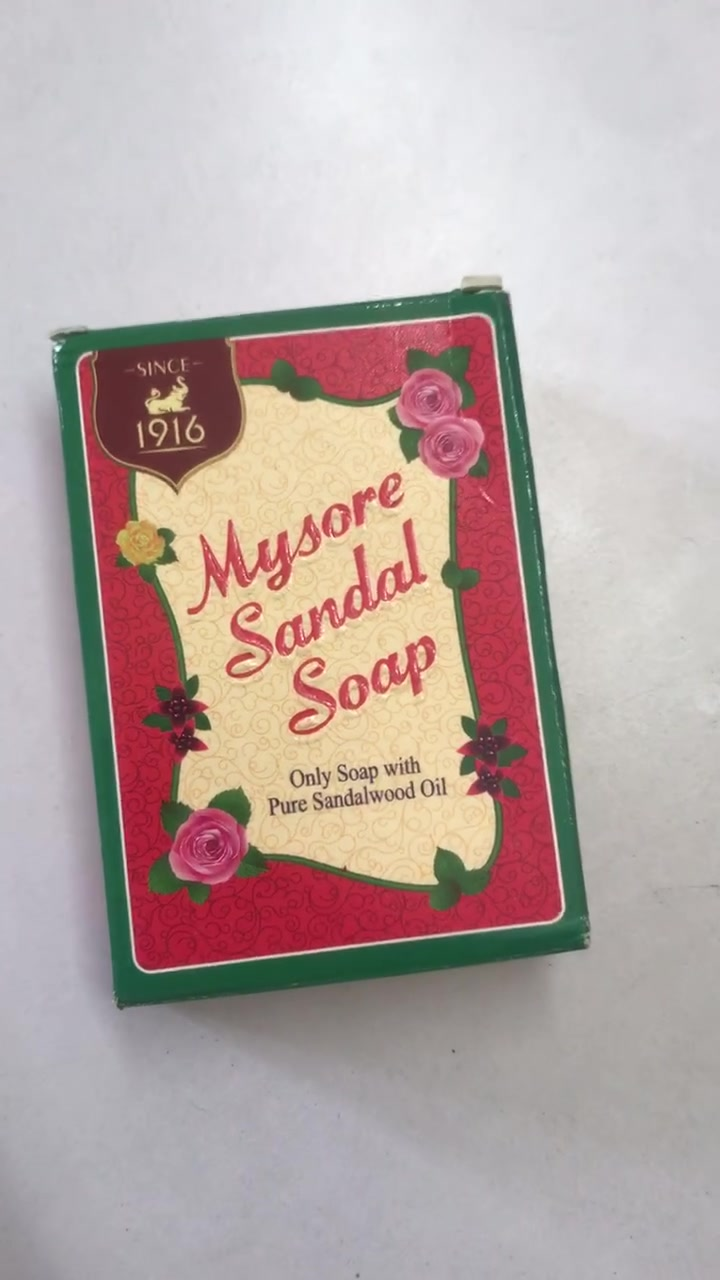mysore sandal soap: (53, 320, 602, 982)
